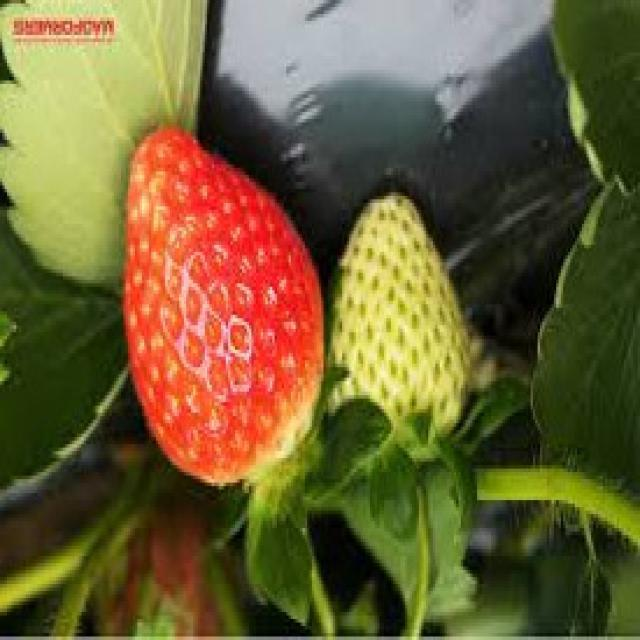strawberry: (120, 126, 324, 487), (325, 194, 468, 452)
